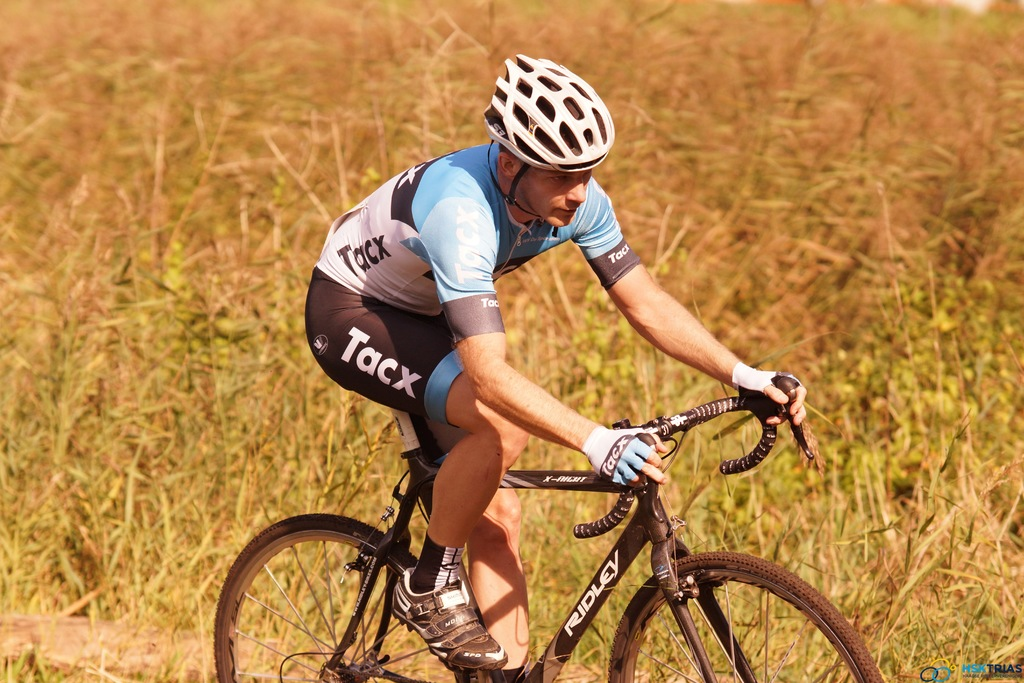Bike: (216, 366, 832, 683)
